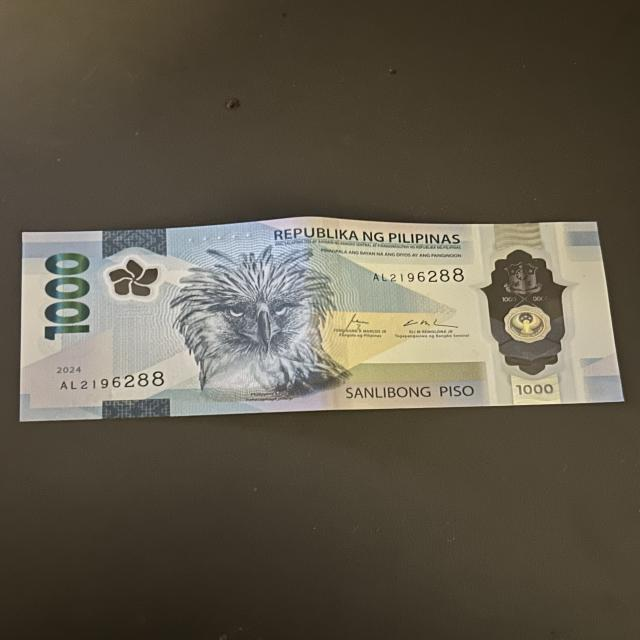clear_window: (472, 255, 580, 376)
eagle: (182, 257, 336, 397)
sampaguita: (110, 253, 166, 298)
